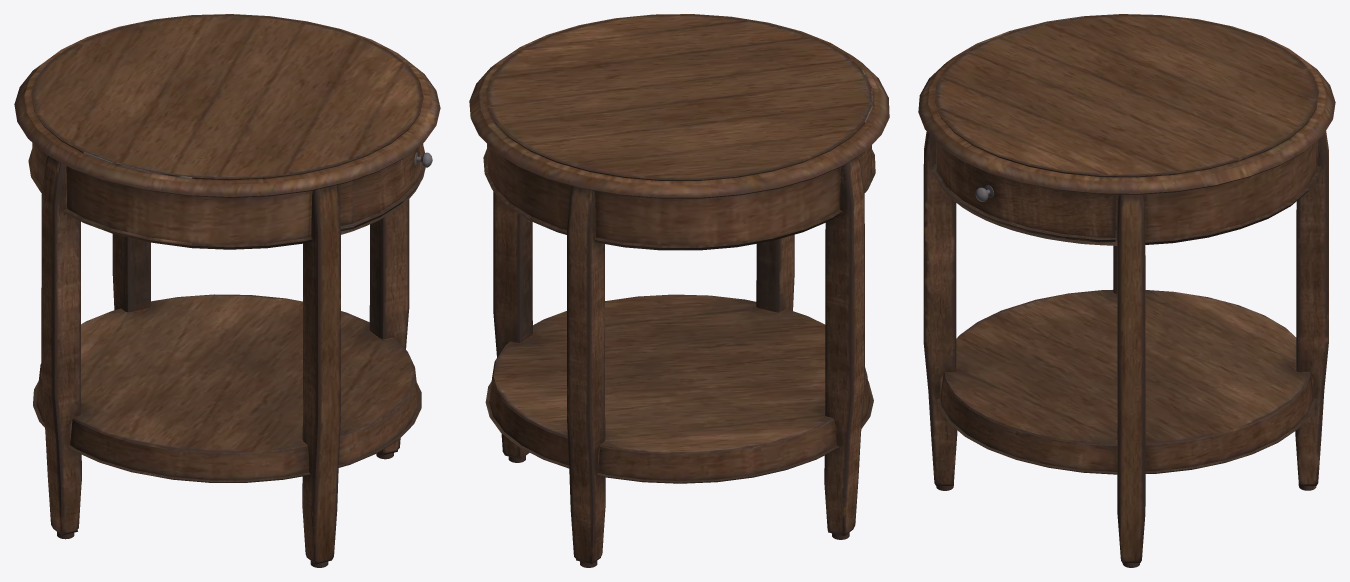
Rendered from nightstand_michael_belo.glb.
The picture shows the model from 3 angles, left to right: view 1: azimuth 30°, elevation 25°; view 2: azimuth 150°, elevation 25°; view 3: azimuth 270°, elevation 25°; orthographic projection.
Visible parts, largest first — view 1: Object_2; view 2: Object_2; view 3: Object_2.
Part boxes in pixels (x1,y1,x2,y2): Object_2: (14, 14, 440, 567); Object_2: (469, 14, 889, 567); Object_2: (918, 14, 1335, 567).
Bounding box in the file's own units: 0.8705 × 0.907 × 0.8728.
Materials: 1 (1 with a texture image).
